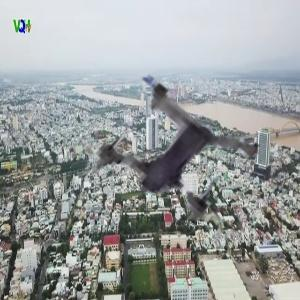drone: (73, 66, 271, 264)
